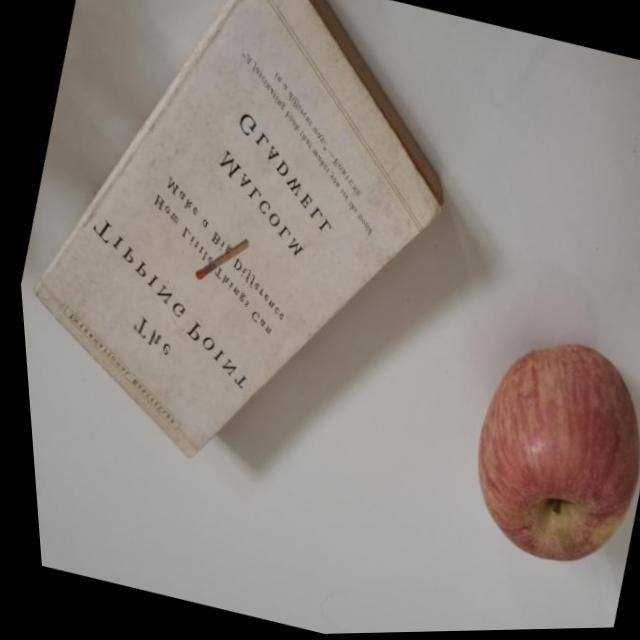Apple: (433, 316, 640, 588)
Book: (0, 0, 505, 515)
